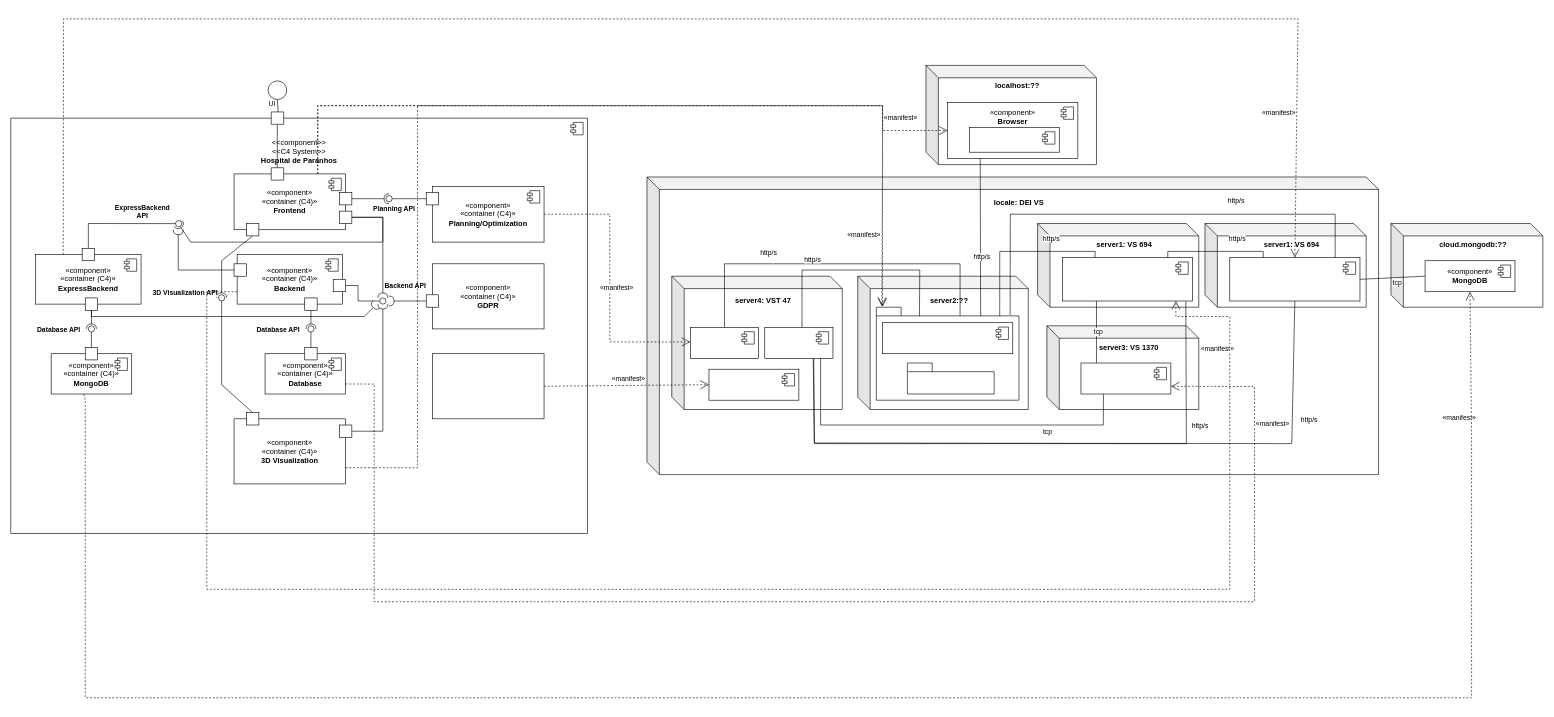
Some shapes in this 1554 by 717 pixel diagram are drawn without their labels. Here are the shapes that lost their labels. From the top down, the centre of each, then its label:
At point (1014, 139): "«component» HospitalApp".
At point (1127, 279): "«component» Server".
At point (1294, 279): "«component» Express Server".
At point (724, 342): "«component» Planeamento".
At point (798, 342): "«component» IAM".
At point (947, 338): "«component» HTTP Server".
At point (488, 386): "«component» «container (C4)» BCP".
At point (753, 384): "«component» BCP".
At point (950, 378): "HospitalApp".
At point (1125, 378): "«component» SGBD".
